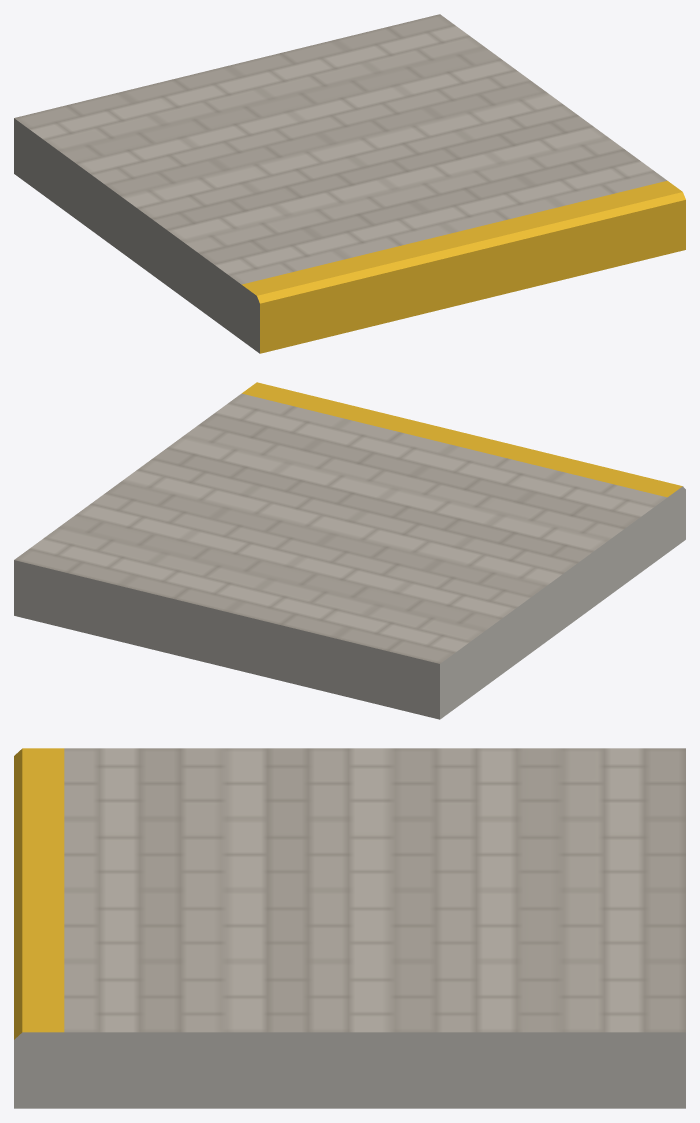
The model's file is SM_Ground_Sidewalk_200x200_Yellow_01.fbx.
The picture shows the model from 3 angles, top to bottom: view 1: azimuth 30°, elevation 25°; view 2: azimuth 150°, elevation 25°; view 3: azimuth 270°, elevation 25°; orthographic projection. The views are drawn at different scales.
Parts seen in each view (by area): view 1: SM_Ground_Sidewalk_200x200_Yellow_01; view 2: SM_Ground_Sidewalk_200x200_Yellow_01; view 3: SM_Ground_Sidewalk_200x200_Yellow_01.
Boxes of the visible parts, box(x1,y1,x2,y2) form: SM_Ground_Sidewalk_200x200_Yellow_01: box(14, 14, 685, 353); SM_Ground_Sidewalk_200x200_Yellow_01: box(14, 382, 685, 719); SM_Ground_Sidewalk_200x200_Yellow_01: box(14, 748, 685, 1108).
Size of the model in its own units: 2 by 0.25 by 2.
Materials: 1 (1 with a texture image).
